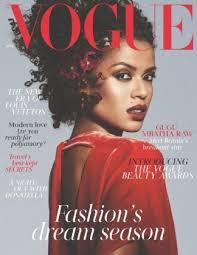Printing industry: (1, 2, 197, 255)
